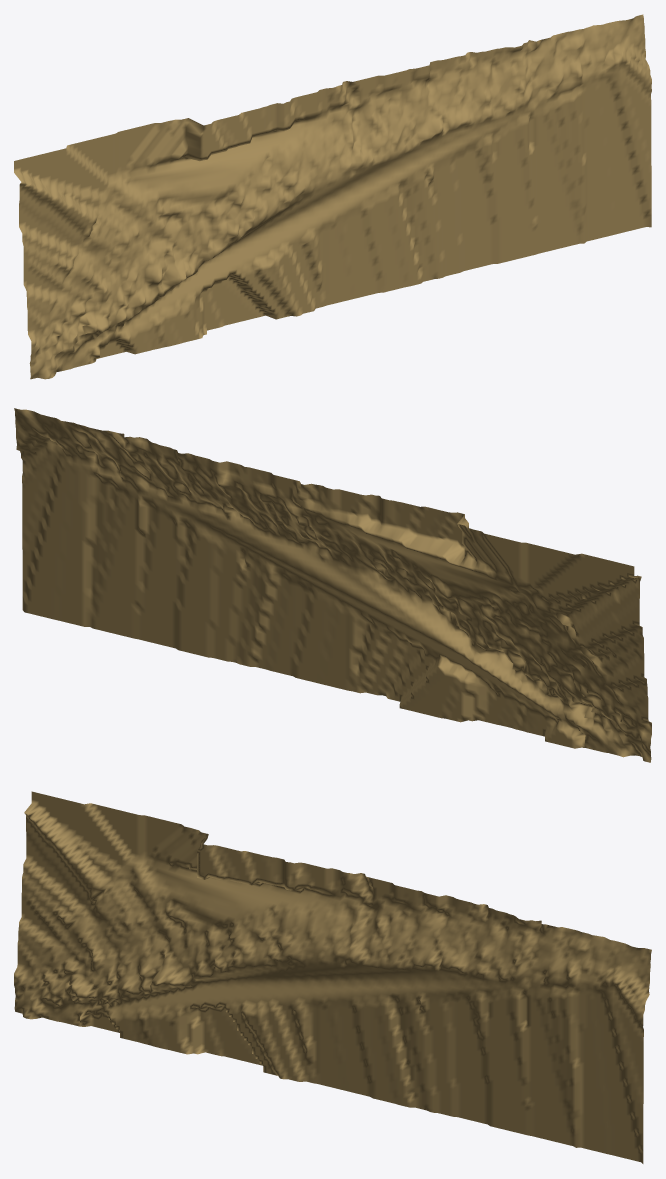
Rendered from seabed_dem.obj.
The picture shows the model from 3 angles, top to bottom: view 1: azimuth 30°, elevation 25°; view 2: azimuth 150°, elevation 25°; view 3: azimuth 330°, elevation 25°; orthographic projection.
Bounding box in the file's own units: 41.75 × 13.25 × 3.15.
